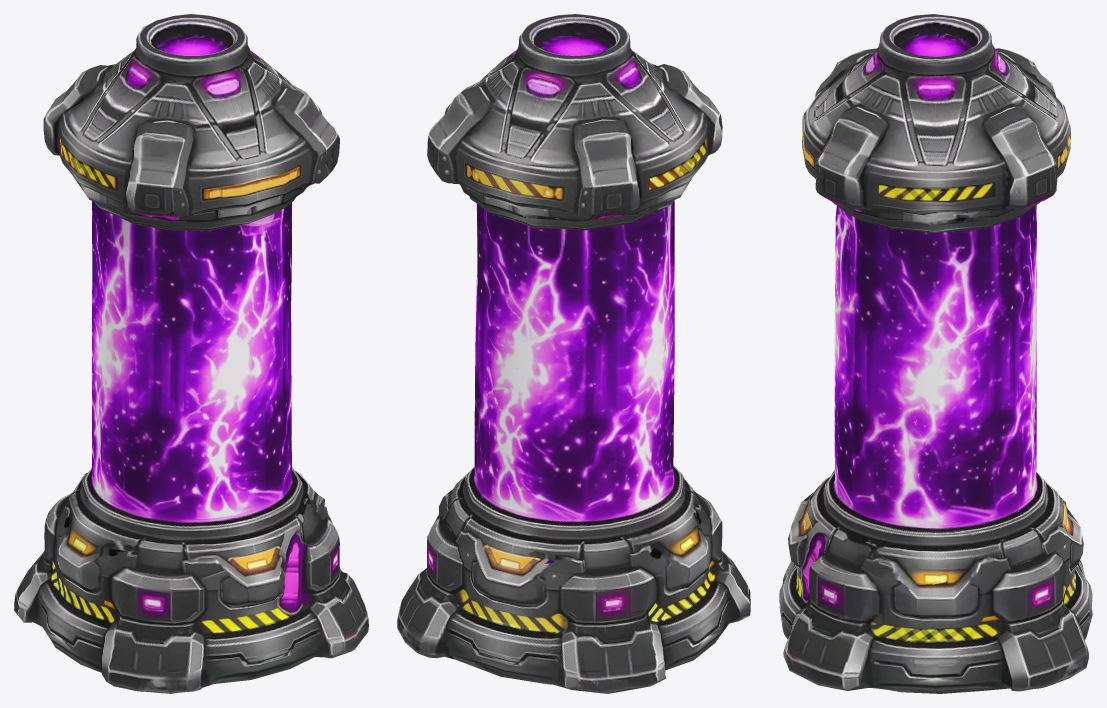
Rendered from elixir_storage.glb.
3 renders of one model, left to right at view 1: azimuth 30°, elevation 25°; view 2: azimuth 150°, elevation 25°; view 3: azimuth 270°, elevation 25°, orthographic.
Visible parts, largest first — view 1: Mesh0; view 2: Mesh0; view 3: Mesh0.
Part boxes in pixels (box(x1,y1,x2,y2)): Mesh0: box(14, 14, 368, 693); Mesh0: box(397, 14, 750, 693); Mesh0: box(779, 14, 1092, 693).
Bounding box in the file's own units: 0.9102 × 1.91 × 0.9116.
Materials: 1 (1 with a texture image).
